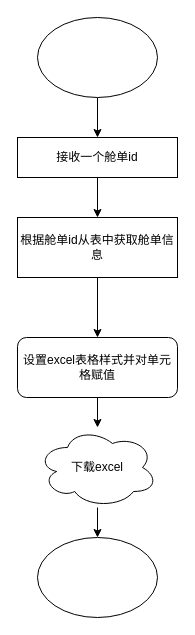
This 195x635 diagram has some shape labels left out. Here are the shapes that lost their labels. From the top down, the box of each, then its label:
(36, 16, 158, 98): 开始
(36, 536, 158, 618): 结束
